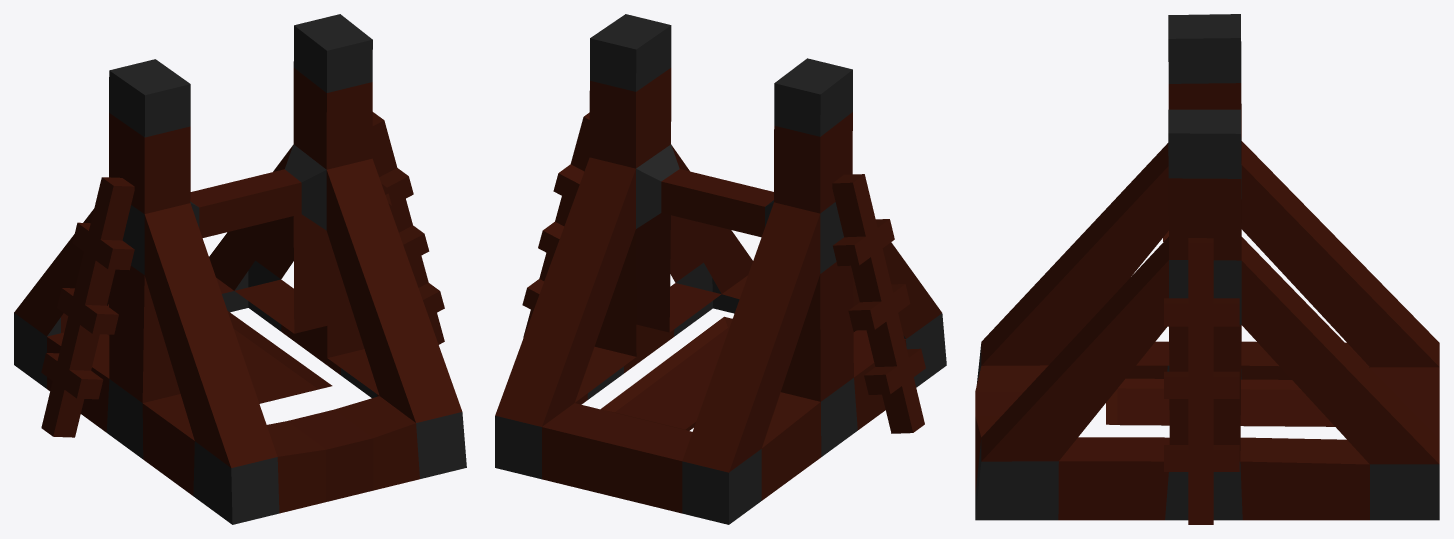
The model's file is trebuchet_body.obj.
The picture shows the model from 3 angles, left to right: view 1: azimuth 30°, elevation 25°; view 2: azimuth 150°, elevation 25°; view 3: azimuth 270°, elevation 25°; orthographic projection. The views are drawn at different scales.
Visible parts, largest first — view 1: trebuchet_body; view 2: trebuchet_body; view 3: trebuchet_body.
Boxes of the visible parts, bbox=[...] form: trebuchet_body: bbox=[14, 14, 466, 524]; trebuchet_body: bbox=[495, 14, 946, 524]; trebuchet_body: bbox=[975, 14, 1439, 524].
Size of the model in its own units: 0.8513 by 0.754 by 0.8233.
